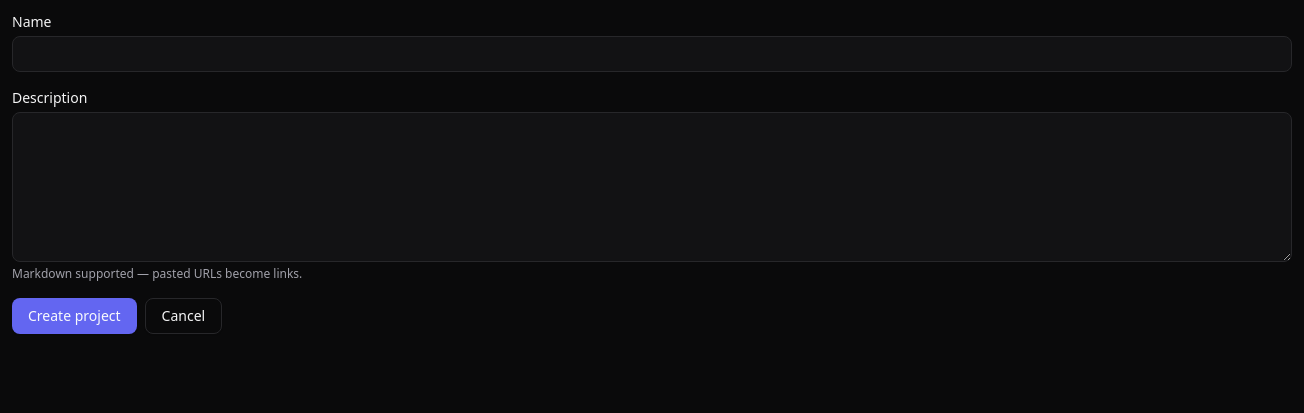
Test: NewProjectForm › shows the API error message when creation fails
This screenshot has width=1304, height=413.
Type "Alpha" into the field labelled "Name".
click(652, 54); type("Alpha")  # box x1=12 y1=36 x2=1292 y2=72
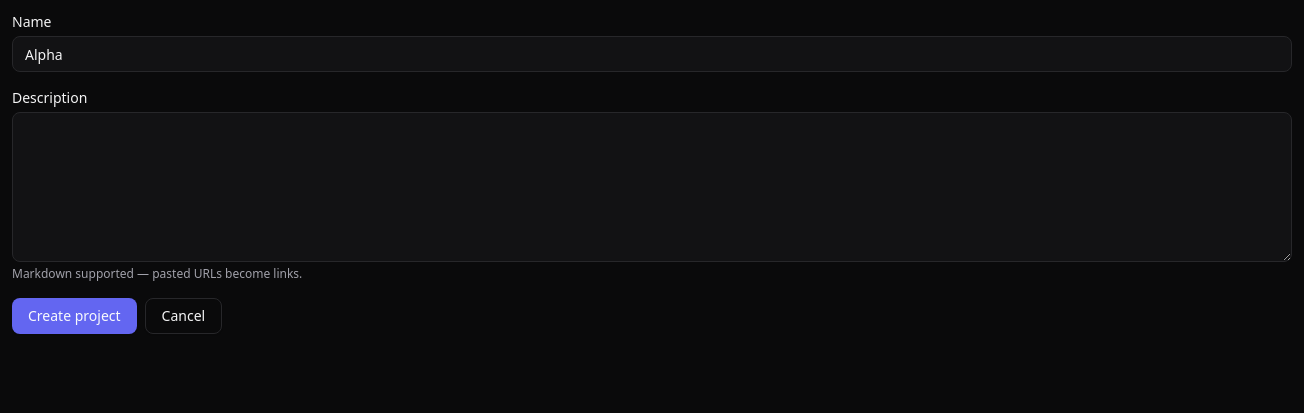
Click the button "Create project".
click(74, 316)  # box x1=12 y1=298 x2=137 y2=334
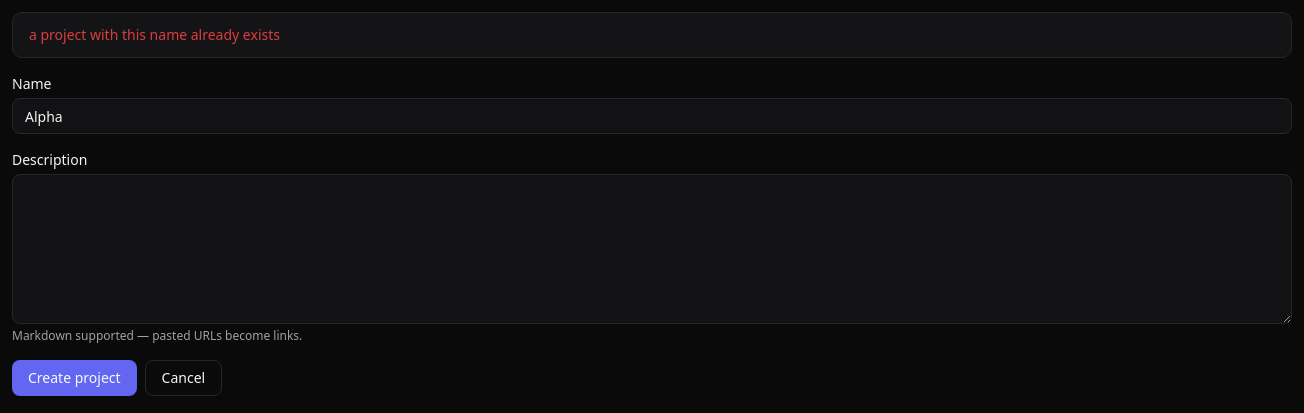
Expected: the text "a project with this name already exists" is shown, x1=29 y1=25 x2=280 y2=44
